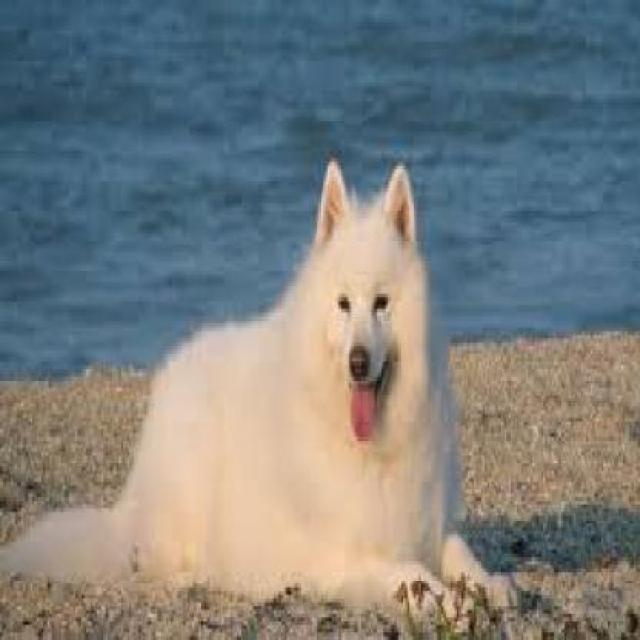animals: (13, 97, 501, 640)
